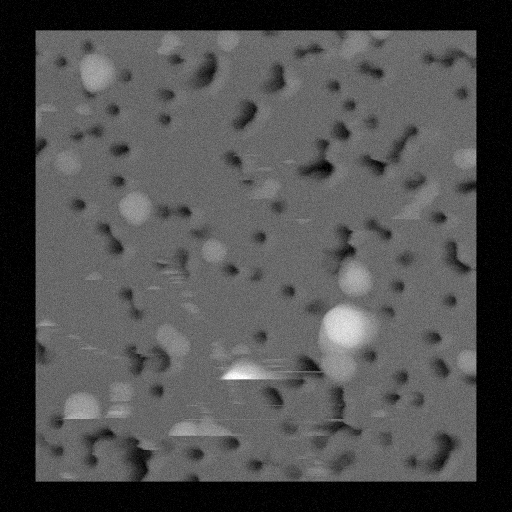Hole: (321, 80, 386, 139), (408, 422, 475, 476), (417, 41, 475, 101), (292, 133, 341, 184), (218, 90, 268, 131), (119, 434, 163, 480), (324, 386, 360, 441), (386, 368, 431, 410), (436, 236, 475, 278), (388, 115, 421, 162), (186, 50, 219, 96), (178, 445, 217, 480), (92, 217, 126, 256), (356, 208, 392, 242), (326, 221, 362, 255), (286, 35, 331, 62), (155, 195, 194, 226), (82, 424, 113, 462), (353, 149, 392, 178), (260, 59, 288, 97), (114, 285, 145, 319), (35, 430, 70, 457), (423, 353, 453, 381), (70, 122, 107, 144), (392, 239, 418, 270), (107, 137, 139, 162), (420, 317, 447, 346), (150, 107, 178, 134), (151, 82, 182, 106), (250, 220, 274, 251), (352, 60, 392, 78), (60, 193, 93, 214), (142, 379, 170, 402), (317, 245, 337, 275), (373, 424, 396, 449), (262, 387, 285, 411), (243, 449, 262, 478), (243, 263, 265, 288), (280, 276, 301, 301), (440, 288, 462, 311), (388, 273, 411, 295), (35, 338, 53, 366), (263, 196, 294, 212), (106, 167, 128, 188), (248, 321, 268, 344), (401, 164, 419, 188), (280, 416, 300, 437), (378, 300, 397, 322), (103, 101, 125, 120), (35, 129, 50, 156), (52, 48, 70, 70), (117, 64, 135, 86), (73, 35, 98, 50), (459, 176, 475, 198), (224, 146, 239, 167), (429, 208, 445, 227), (223, 436, 240, 452)
Particle: (304, 294, 383, 384), (332, 255, 377, 301), (74, 52, 120, 96), (114, 183, 154, 228), (334, 30, 387, 59), (50, 145, 89, 181), (156, 322, 193, 359), (195, 230, 231, 268), (450, 337, 475, 377), (448, 137, 475, 174), (210, 30, 243, 54), (263, 443, 283, 465)
Smear: (202, 337, 301, 389), (388, 172, 447, 220), (163, 411, 253, 441), (234, 152, 286, 200), (65, 329, 125, 365), (51, 386, 103, 422), (175, 289, 211, 322), (298, 451, 340, 478), (106, 373, 136, 401), (154, 30, 189, 54), (104, 400, 138, 423), (154, 255, 188, 278), (80, 266, 117, 283), (35, 311, 62, 333), (304, 416, 328, 439), (35, 100, 60, 117), (73, 100, 94, 115), (58, 467, 82, 480), (367, 404, 391, 417), (281, 216, 318, 223), (142, 283, 167, 293)
